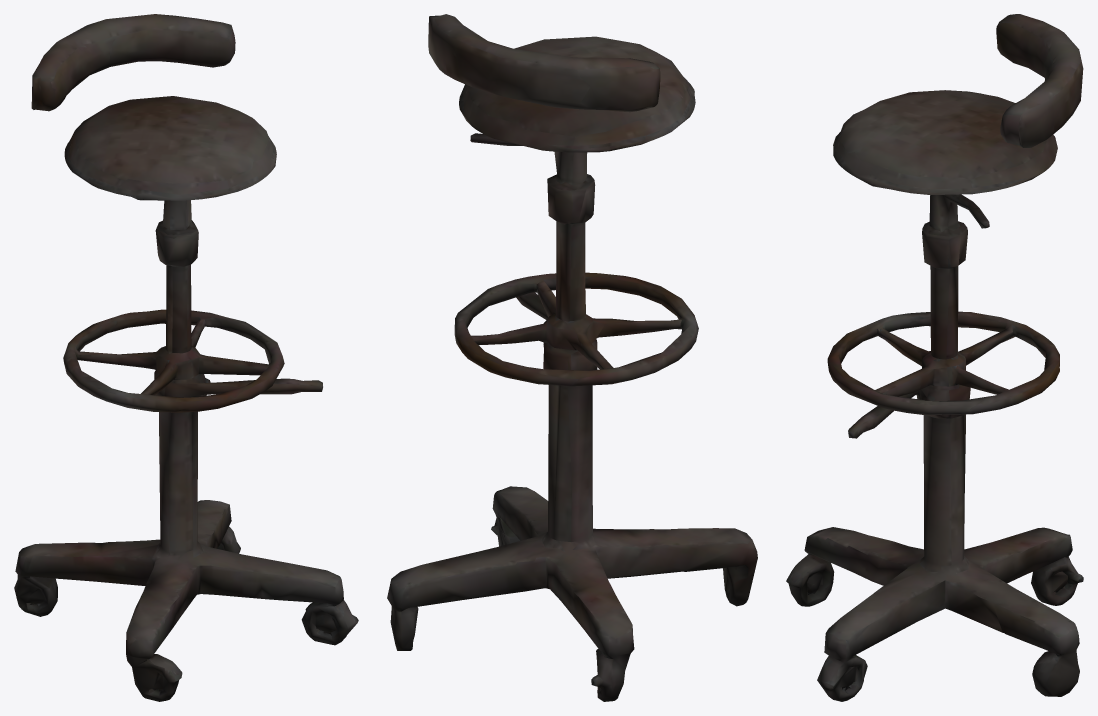
Rendered from weathered-iron-examination-chair-v001.glb.
3 renders of one model, left to right at view 1: azimuth 30°, elevation 25°; view 2: azimuth 150°, elevation 25°; view 3: azimuth 270°, elevation 25°, orthographic. The views are drawn at different scales.
Parts seen in each view (by area): view 1: weathered-iron-examination-chair; view 2: weathered-iron-examination-chair; view 3: weathered-iron-examination-chair.
Boxes of the visible parts, box(x1,y1,x2,y2) form: weathered-iron-examination-chair: box(14, 14, 358, 701); weathered-iron-examination-chair: box(387, 14, 757, 701); weathered-iron-examination-chair: box(786, 14, 1083, 701).
Bounding box in the file's own units: 0.5014 × 1.15 × 0.5245.
Materials: 1 (1 with a texture image).
